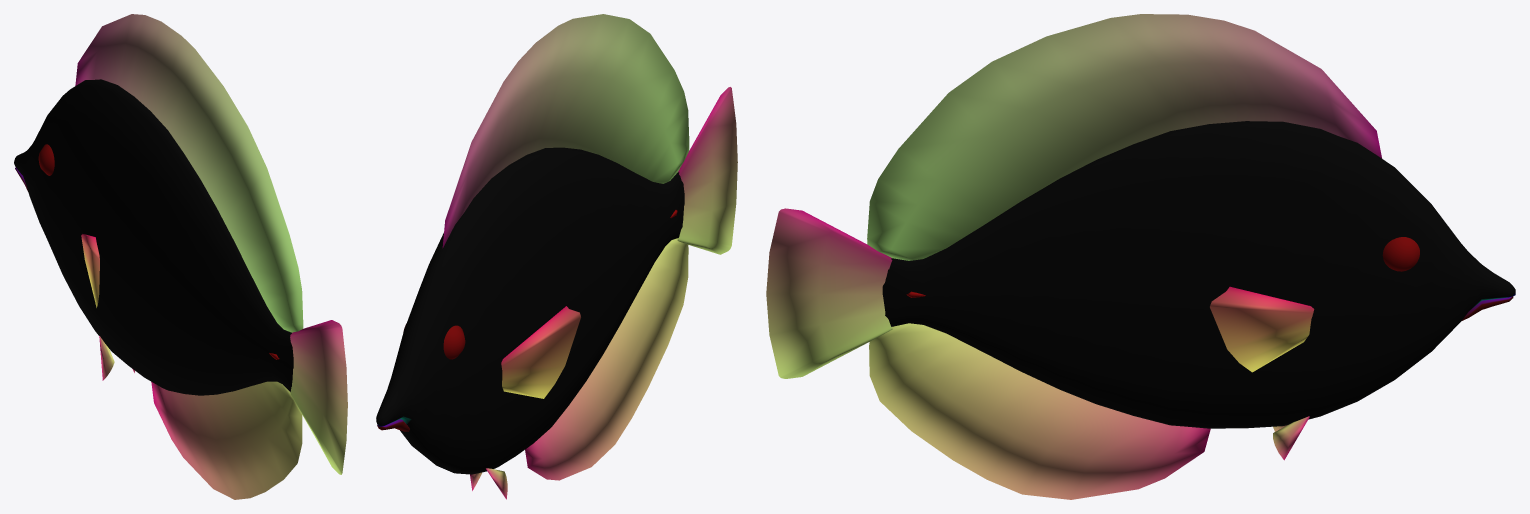
The model's file is surgeonfish_yellow_tang_game.glb.
The picture shows the model from 3 angles, left to right: view 1: azimuth 30°, elevation 25°; view 2: azimuth 150°, elevation 25°; view 3: azimuth 270°, elevation 25°; orthographic projection. The views are drawn at different scales.
Visible parts, largest first — view 1: surgeonfish_yellow_tang_game; view 2: surgeonfish_yellow_tang_game; view 3: surgeonfish_yellow_tang_game.
Boxes of the visible parts, x1,y1,x2,y2 form: surgeonfish_yellow_tang_game: [14, 14, 347, 499]; surgeonfish_yellow_tang_game: [376, 14, 737, 499]; surgeonfish_yellow_tang_game: [766, 14, 1515, 499].
Size of the model in its own units: 0.0444 by 0.1765 by 0.2467.
